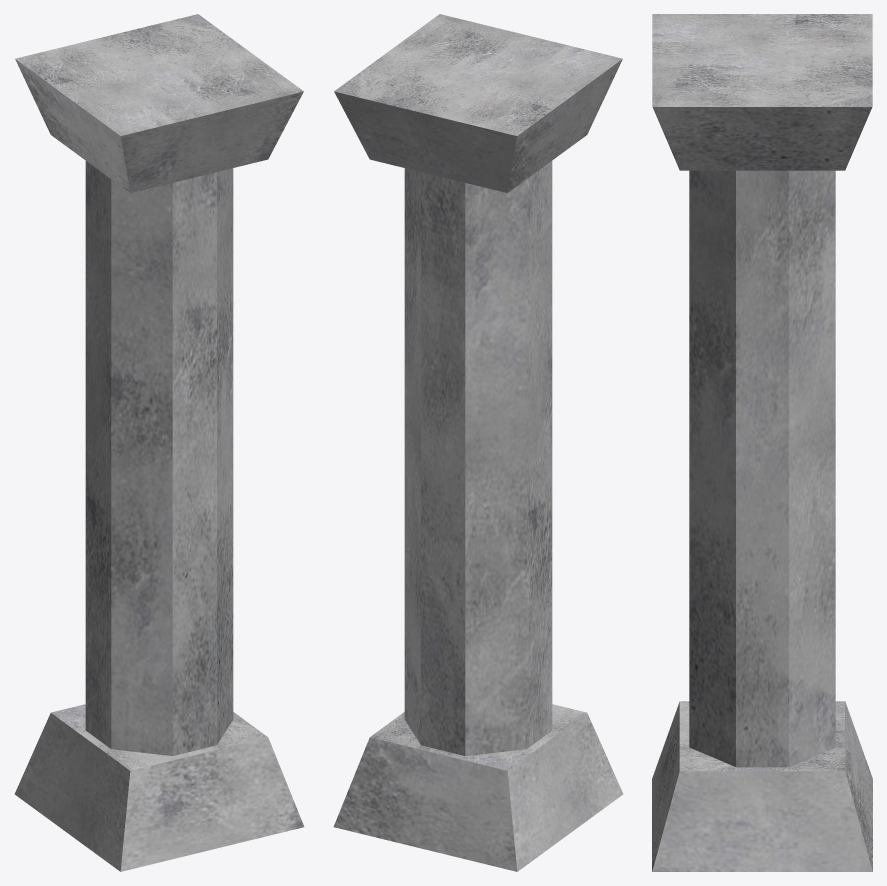
File: column.fbx
The picture shows the model from 3 angles, left to right: view 1: azimuth 30°, elevation 25°; view 2: azimuth 150°, elevation 25°; view 3: azimuth 270°, elevation 25°; orthographic projection. The views are drawn at different scales.
Parts seen in each view (by area): view 1: Cube; view 2: Cube; view 3: Cube.
Boxes of the visible parts, left/top/right/bottom form: Cube: left=14, top=14, right=304, bottom=871; Cube: left=333, top=14, right=623, bottom=871; Cube: left=652, top=14, right=872, bottom=871.
Size of the model in its own units: 200 by 765 by 200.
